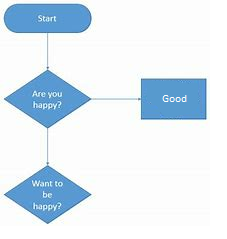arrow: (89, 96, 141, 101), (45, 30, 51, 71), (45, 126, 50, 166)
decision: (2, 70, 93, 130), (3, 164, 92, 225)
process: (140, 77, 208, 121)
terminator: (3, 3, 92, 34)
text: (30, 178, 64, 212), (31, 88, 64, 111), (161, 94, 187, 103), (36, 13, 56, 23)
